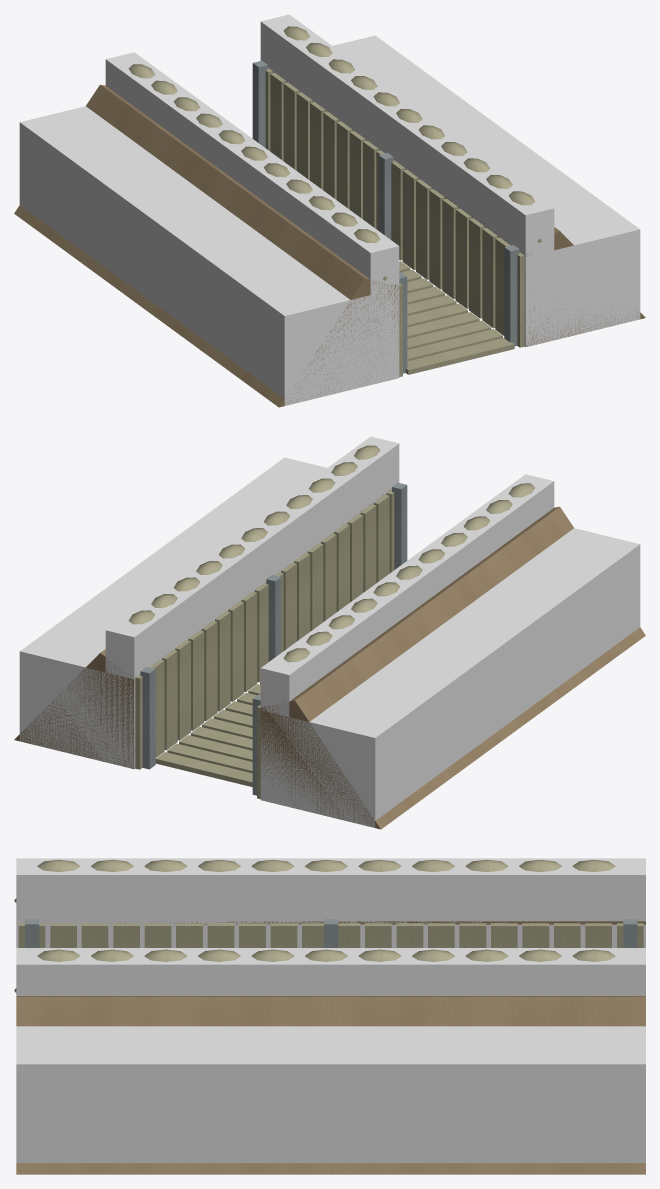
The model's file is TrenchStraight.fbx.
3 views of the same model, one above another, from view 1: azimuth 30°, elevation 25°; view 2: azimuth 150°, elevation 25°; view 3: azimuth 270°, elevation 25° (orthographic). The views are drawn at different scales.
Parts seen in each view (by area): view 1: COL_Static, LOD0; view 2: COL_Static, LOD0; view 3: COL_Static, LOD0.
Boxes of the visible parts, bbox=[...] form: COL_Static: bbox=[19, 14, 640, 405]; LOD0: bbox=[14, 26, 645, 407]; COL_Static: bbox=[19, 436, 640, 827]; LOD0: bbox=[14, 445, 645, 829]; COL_Static: bbox=[16, 858, 645, 1162]; LOD0: bbox=[14, 859, 645, 1174].
Size of what is drawn, in the model's own units: 640 by 228 by 803.
